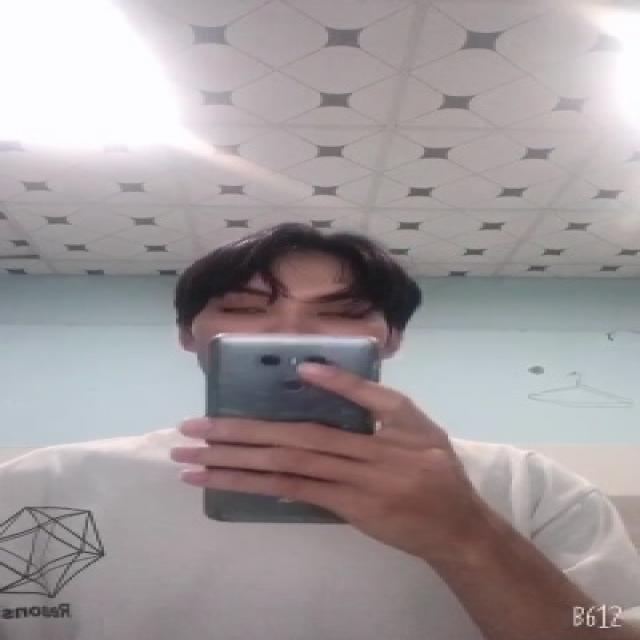Phone: (200, 330, 382, 524)
